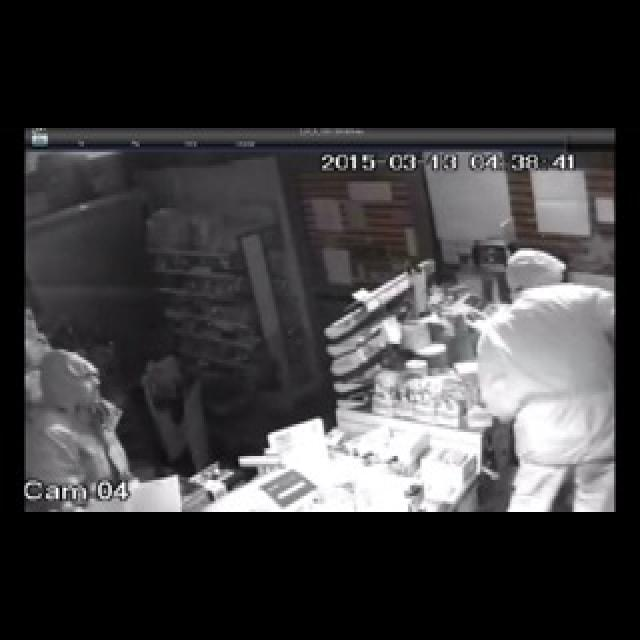thief: (468, 245, 612, 512)
